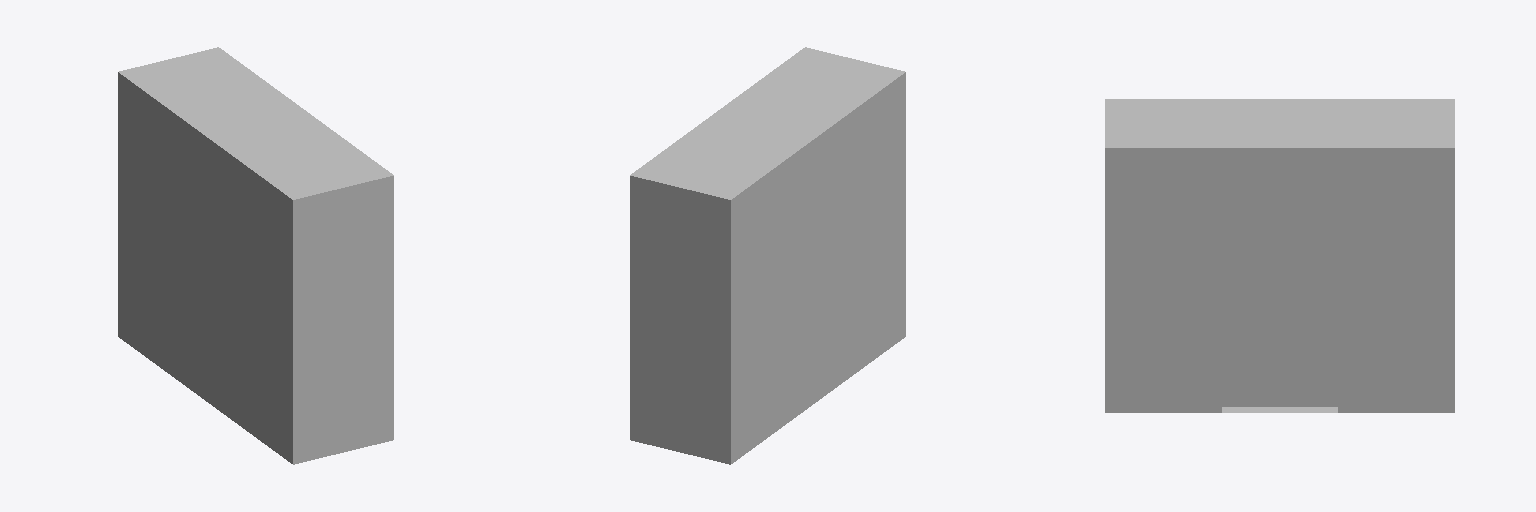
Rendered from Building2.obj.
3 renders of one model, left to right at view 1: azimuth 30°, elevation 25°; view 2: azimuth 150°, elevation 25°; view 3: azimuth 270°, elevation 25°, orthographic.
Visible parts, largest first — view 1: Building2; view 2: Building2; view 3: Building2.
Part boxes in pixels (x1,y1,x2,y2): Building2: (118,47,393,464); Building2: (630,47,905,464); Building2: (1105,99,1454,412).
Size of the model in its own units: 2 by 5 by 6.